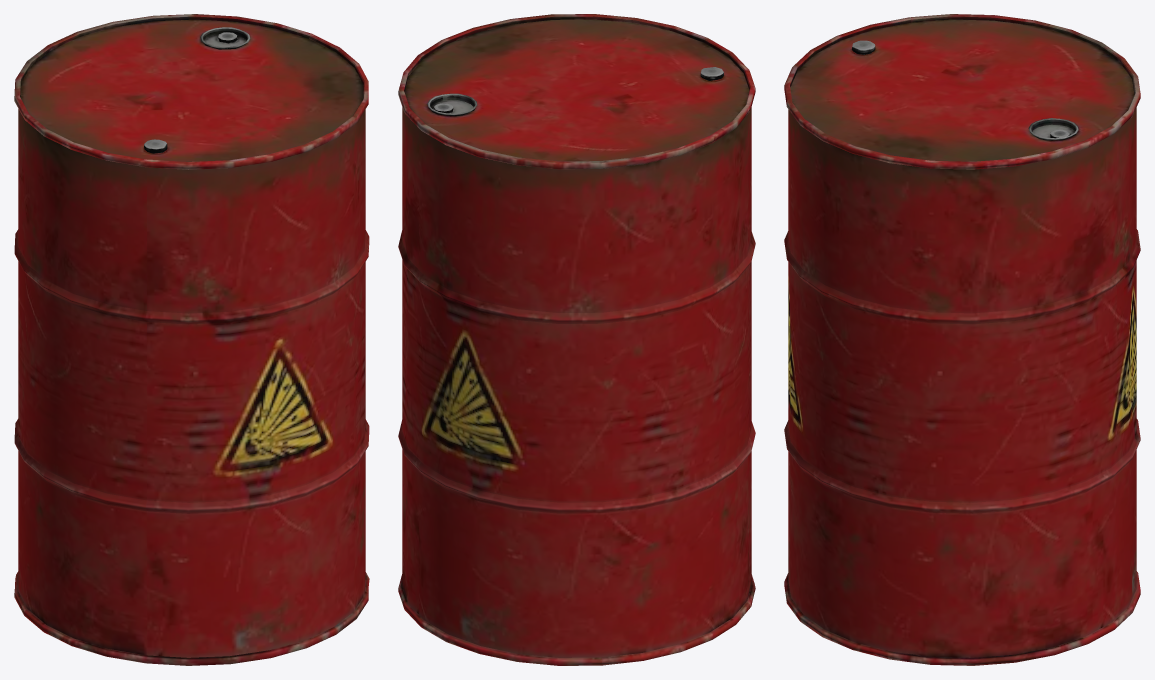
The model's file is Barrel_01.glb.
The picture shows the model from 3 angles, left to right: view 1: azimuth 30°, elevation 25°; view 2: azimuth 150°, elevation 25°; view 3: azimuth 270°, elevation 25°; orthographic projection.
Visible parts, largest first — view 1: Barrel_01; view 2: Barrel_01; view 3: Barrel_01.
Boxes of the visible parts, bbox=[...] form: Barrel_01: bbox=[14, 14, 369, 665]; Barrel_01: bbox=[398, 14, 755, 665]; Barrel_01: bbox=[784, 14, 1140, 665].
Size of the model in its own units: 0.563 by 0.88 by 0.563.
Materials: 1 (1 with a texture image).
